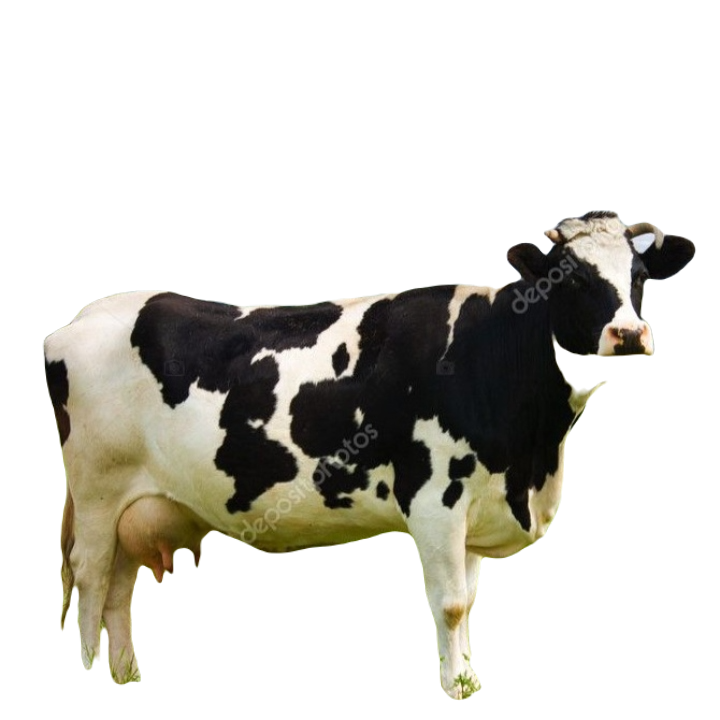Cow: (41, 211, 695, 700)
